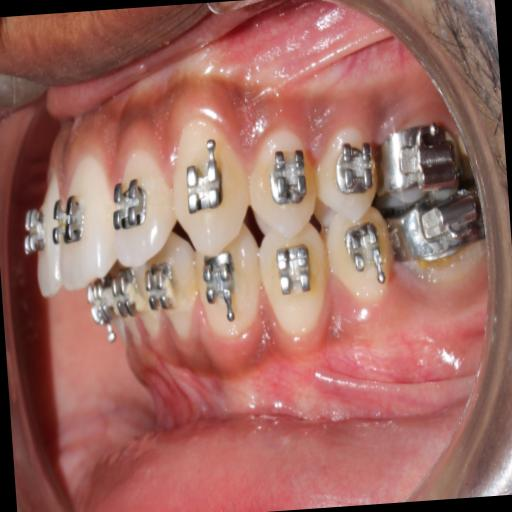correct_brace: (248, 124, 326, 244), (106, 180, 156, 242), (182, 154, 228, 220), (48, 193, 86, 250)
incorrect_brace: (108, 154, 177, 267), (266, 146, 308, 212)
